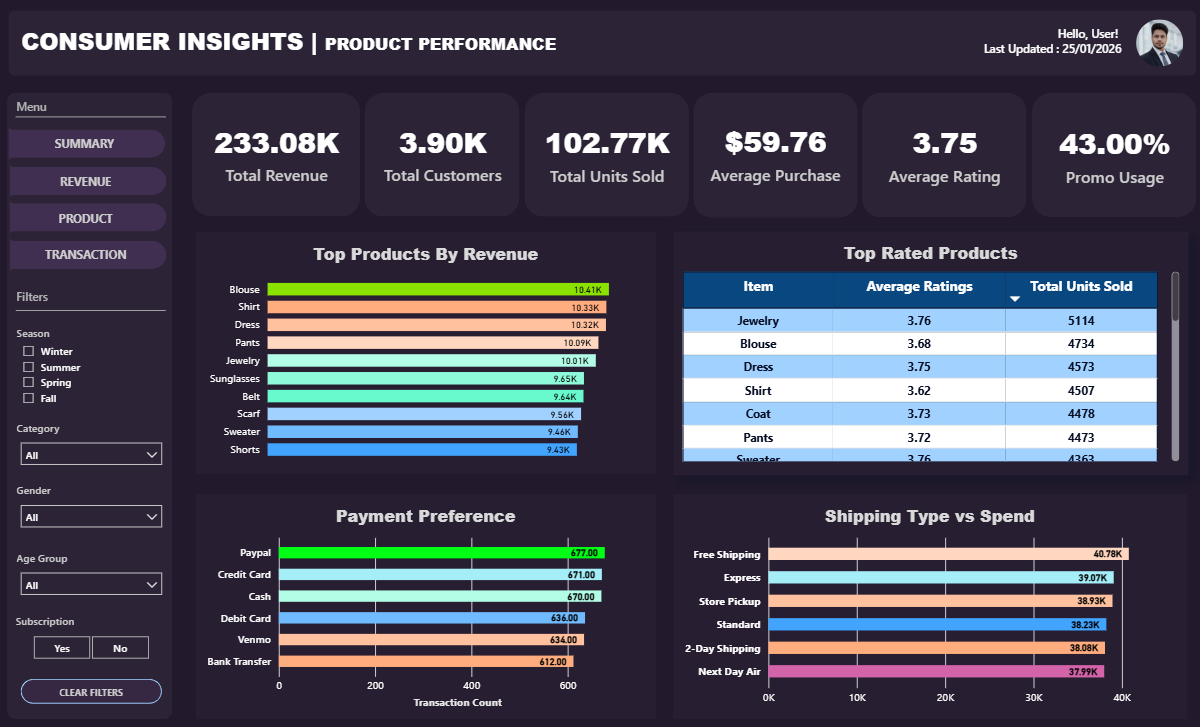

What the dashboard file says about the page in this screenshot:
{"tool":"powerbi","page":{"name":"Product Performance","canvas":[1400,847],"ordinal":2},"visuals":[{"type":"shape","box":[12.9,13.2,1372.9,75.7],"z":0},{"type":"textbox","box":[23.3,25,640,53.3],"z":1000},{"type":"textbox","box":[1016.7,23.9,308.3,54.2],"z":2000},{"type":"image","box":[1312.2,18.8,64.4,64.4],"z":3000},{"type":"shape","box":[12,108,191,724],"z":4000},{"type":"textbox","box":[17.3,109.3,91.3,38.7],"z":5000},{"type":"shape","box":[12.7,139.7,181.3,54],"z":6000},{"type":"actionButton","box":[13.3,153,176,26.7],"z":7000},{"type":"shape","box":[22,128.7,173.3,15.3],"z":8000},{"type":"shape","box":[14.3,182.8,181.3,54],"z":9000},{"type":"actionButton","box":[15,196.1,176,26.7],"z":10000},{"type":"shape","box":[14.3,225.9,181.3,54],"z":11000},{"type":"actionButton","box":[15,239.2,176,26.7],"z":12000},{"type":"shape","box":[13.8,268.9,181.3,54],"z":13000},{"type":"actionButton","box":[14.5,282.2,176,26.7],"z":14000},{"type":"textbox","box":[17.2,328.9,91.7,38.3],"z":15000},{"type":"shape","box":[22.2,352.2,173.3,15],"z":16000},{"type":"slicer","title":"Season","fields":{"Values":["consumer_behaviour consumer_data.season"]},"box":[11.8,367,193,119],"z":17000},{"type":"slicer","title":"Category","fields":{"Values":["consumer_behaviour consumer_data.category"]},"box":[11.8,476.4,194.5,72.7],"z":18000},{"type":"slicer","title":"Age Group","fields":{"Values":["consumer_behaviour consumer_data.age_group"]},"box":[11.8,626.4,194.5,73.6],"z":19000},{"type":"slicer","title":"Subscription","fields":{"Values":["consumer_behaviour consumer_data.subscription_status"]},"box":[11.8,700,192.7,70.9],"z":20000},{"type":"slicer","title":"Gender","fields":{"Values":["consumer_behaviour consumer_data.gender"]},"box":[11.8,549.1,194.5,77.3],"z":21000},{"type":"actionButton","title":"Clear Filters","box":[26.9,785.4,163.1,28.5],"z":22000},{"type":"barChart","title":"Top Products By Revenue","fields":{"Y":["consumer_behaviour consumer_data.Total Revenue"],"Category":["consumer_behaviour consumer_data.item_purchased"]},"box":[230,268.3,531.7,280],"z":23000},{"type":"tableEx","title":"Top Rated Products","fields":{"Values":["consumer_behaviour consumer_data.item_purchased","Avg(consumer_behaviour consumer_data.review_rating)","consumer_behaviour consumer_data.Total Units Sold"]},"box":[781.7,268.3,595,281.7],"z":24000},{"type":"barChart","title":"Payment Preference","fields":{"Category":["consumer_behaviour consumer_data.payment_method"],"Y":["CountNonNull(consumer_behaviour consumer_data.payment_method)"]},"box":[230,571.7,531.7,260],"z":25000},{"type":"clusteredBarChart","title":"Shipping Type vs Spend","fields":{"Category":["consumer_behaviour consumer_data.shipping_type"],"Y":["consumer_behaviour consumer_data.Total Revenue"]},"box":[781.7,571.7,593.3,260],"z":26000},{"type":"group","id":"g1","title":"Group 1","box":[225.7,108,190,142.9],"z":27000},{"type":"shape","box":[225.7,108,194.4,142.9],"z":27000,"group":"g1"},{"type":"shape","box":[609.3,108,190,143.3],"z":27000,"group":"g3"},{"type":"shape","box":[804.8,108,190,144.4],"z":27000,"group":"g6"},{"type":"shape","box":[1000.2,108,190,144],"z":27000,"group":"g4"},{"type":"shape","box":[1195.7,108,190,143.8],"z":27000,"group":"g5"},{"type":"shape","box":[424.5,108.2,179.1,143.1],"z":27000,"group":"g2"},{"type":"group","id":"g2","title":"Group 1","box":[424.5,108.2,179.1,141.8],"z":28000},{"type":"card","fields":{"Values":["consumer_behaviour consumer_data.Promotion Usage %"]},"box":[1199.1,119.2,185.7,120],"z":28000,"group":"g5"},{"type":"card","fields":{"Values":["consumer_behaviour consumer_data.Average Purchase Amount"]},"box":[808.6,120.2,181.6,115.6],"z":28000,"group":"g6"},{"type":"card","fields":{"Values":["consumer_behaviour consumer_data.Total Revenue"]},"box":[229.8,120.9,186.9,114.1],"z":28000,"group":"g1"},{"type":"card","fields":{"Values":["consumer_behaviour consumer_data.Total Units Sold"]},"box":[613.3,120.9,182.7,114.5],"z":28000,"group":"g3"},{"type":"card","fields":{"Values":["consumer_behaviour consumer_data.Average Review Rating"]},"box":[1004.2,121,182.7,115],"z":28000,"group":"g4"},{"type":"card","fields":{"Values":["consumer_behaviour consumer_data.Total Customers"]},"box":[428.3,121.1,172.2,114.3],"z":28000,"group":"g2"},{"type":"group","id":"g3","title":"Group 1","box":[609.3,108,190,143.3],"z":29000},{"type":"group","id":"g4","title":"Group 1","box":[1000.2,108,190,142.9],"z":30000},{"type":"group","id":"g5","title":"Group 1","box":[1195.7,108,190,142.9],"z":31000},{"type":"group","id":"g6","title":"Group 1","box":[804.8,108,190,144.4],"z":32000}]}

Visuals, with their boxes in screenshot pixels (x1, y1, x2, y2), scaled from the page's 1400x847 canvas onto the 1200x727 screenshot:
shape: x1=11, y1=11, x2=1188, y2=76
textbox: x1=20, y1=21, x2=569, y2=67
textbox: x1=871, y1=21, x2=1136, y2=67
image: x1=1125, y1=16, x2=1180, y2=71
shape: x1=10, y1=93, x2=174, y2=714
textbox: x1=15, y1=94, x2=93, y2=127
shape: x1=11, y1=120, x2=166, y2=166
actionButton: x1=11, y1=131, x2=162, y2=154
shape: x1=19, y1=110, x2=167, y2=124
shape: x1=12, y1=157, x2=168, y2=203
actionButton: x1=13, y1=168, x2=164, y2=191
shape: x1=12, y1=194, x2=168, y2=240
actionButton: x1=13, y1=205, x2=164, y2=228
shape: x1=12, y1=231, x2=167, y2=277
actionButton: x1=12, y1=242, x2=163, y2=265
textbox: x1=15, y1=282, x2=93, y2=315
shape: x1=19, y1=302, x2=168, y2=315
"Season" slicer: x1=10, y1=315, x2=176, y2=417
"Category" slicer: x1=10, y1=409, x2=177, y2=471
"Age Group" slicer: x1=10, y1=538, x2=177, y2=601
"Subscription" slicer: x1=10, y1=601, x2=175, y2=662
"Gender" slicer: x1=10, y1=471, x2=177, y2=538
"Clear Filters" actionButton: x1=23, y1=674, x2=163, y2=699
"Top Products By Revenue" barChart: x1=197, y1=230, x2=653, y2=471
"Top Rated Products" tableEx: x1=670, y1=230, x2=1180, y2=472
"Payment Preference" barChart: x1=197, y1=491, x2=653, y2=714
"Shipping Type vs Spend" clusteredBarChart: x1=670, y1=491, x2=1179, y2=714
"Group 1" group: x1=193, y1=93, x2=356, y2=215
shape: x1=193, y1=93, x2=360, y2=215
shape: x1=522, y1=93, x2=685, y2=216
shape: x1=690, y1=93, x2=853, y2=217
shape: x1=857, y1=93, x2=1020, y2=216
shape: x1=1025, y1=93, x2=1188, y2=216
shape: x1=364, y1=93, x2=517, y2=216
"Group 1" group: x1=364, y1=93, x2=517, y2=215
card - consumer_behaviour consumer_data.Promotion Usage %: x1=1028, y1=102, x2=1187, y2=205
card - consumer_behaviour consumer_data.Average Purchase Amount: x1=693, y1=103, x2=849, y2=202
card - consumer_behaviour consumer_data.Total Revenue: x1=197, y1=104, x2=357, y2=202
card - consumer_behaviour consumer_data.Total Units Sold: x1=526, y1=104, x2=682, y2=202
card - consumer_behaviour consumer_data.Average Review Rating: x1=861, y1=104, x2=1017, y2=203
card - consumer_behaviour consumer_data.Total Customers: x1=367, y1=104, x2=515, y2=202
"Group 1" group: x1=522, y1=93, x2=685, y2=216
"Group 1" group: x1=857, y1=93, x2=1020, y2=215
"Group 1" group: x1=1025, y1=93, x2=1188, y2=215
"Group 1" group: x1=690, y1=93, x2=853, y2=217
